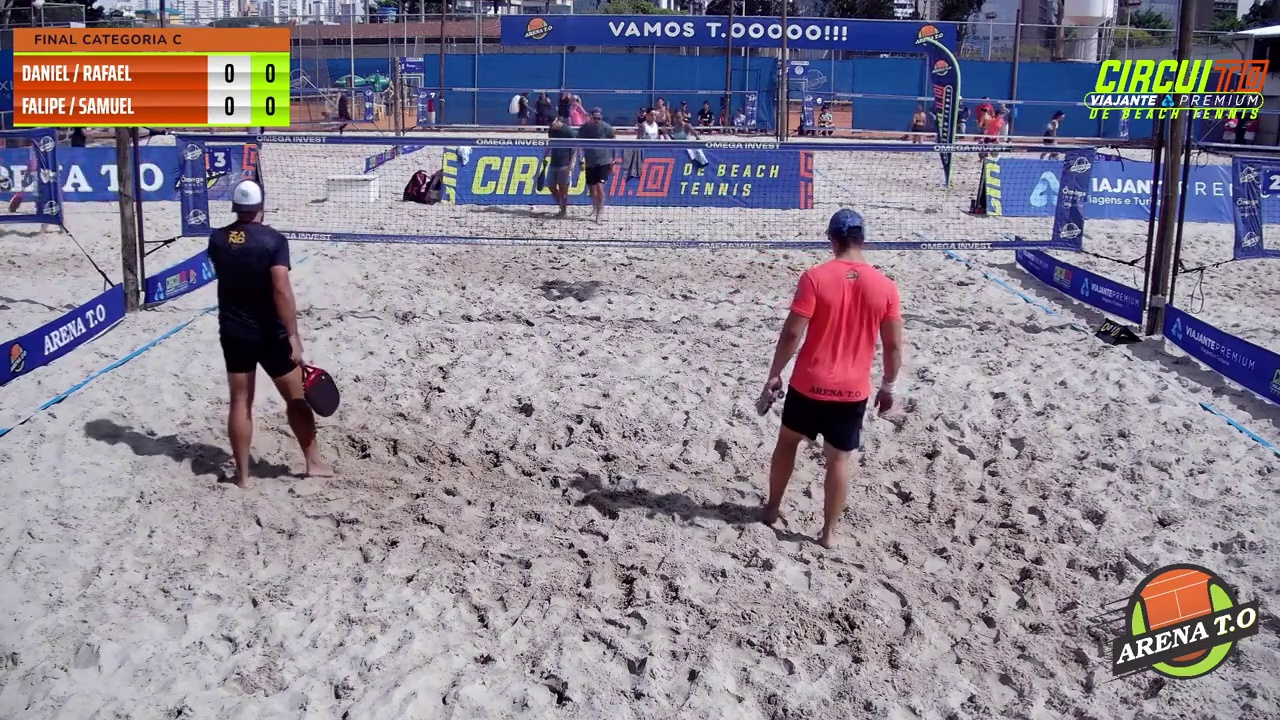court_line: (636, 0, 806, 438)
